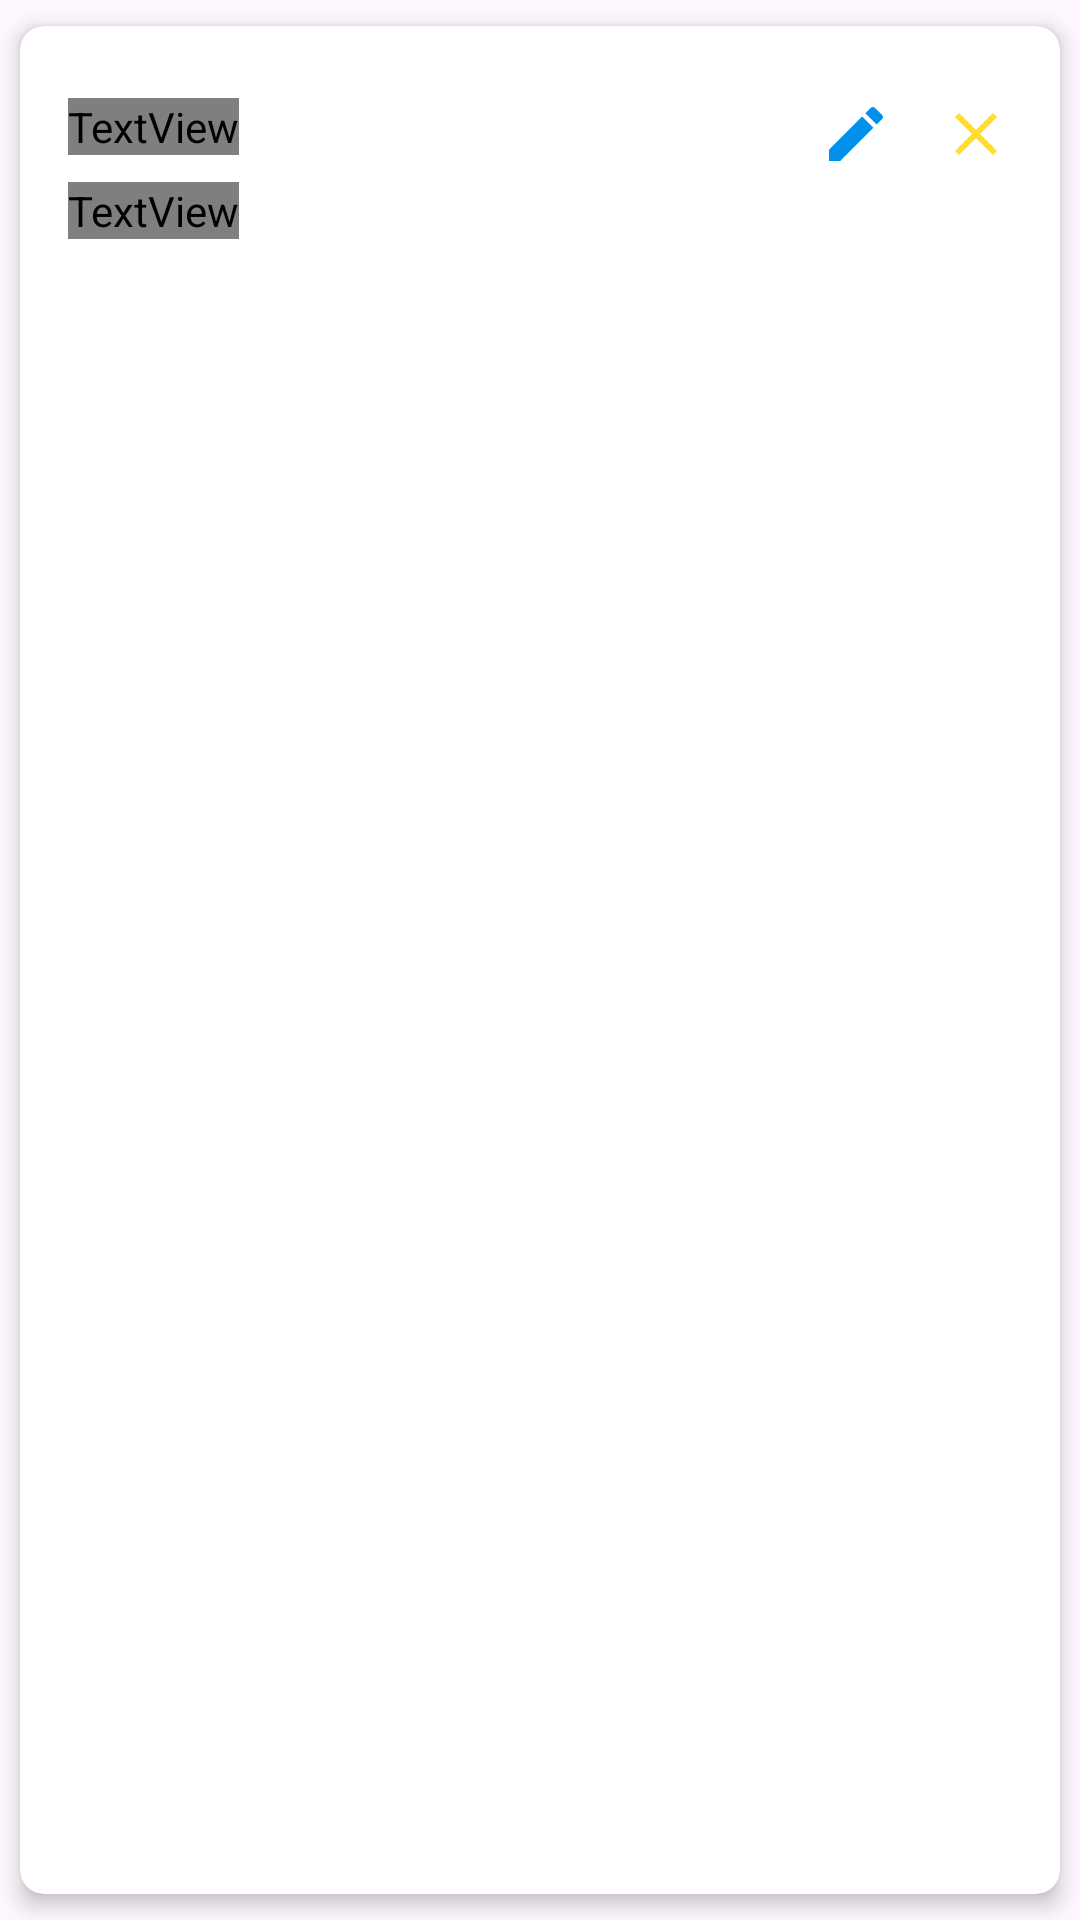

Screen size 1080 × 1920. Icon name, then its center in pixels as (x=x, y=y):
clear: (x=976, y=134)
create: (x=856, y=134)
